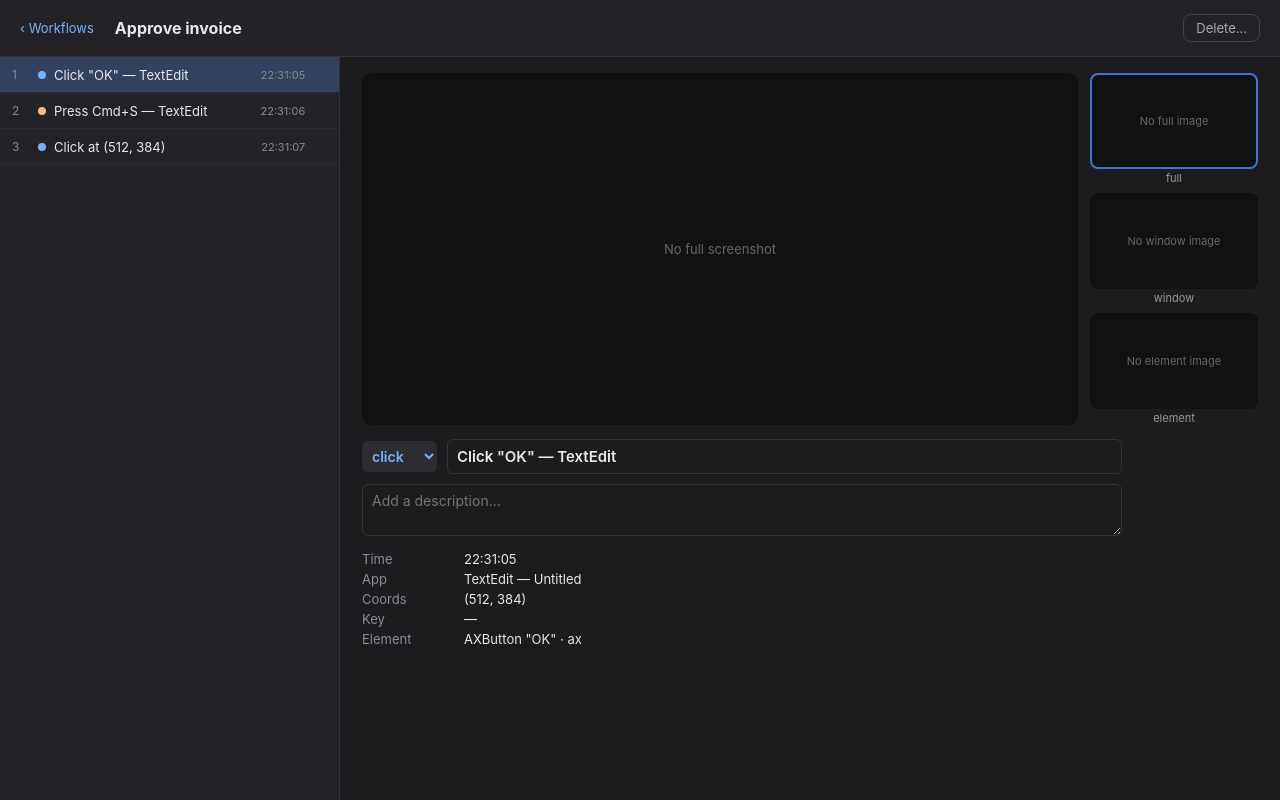
Test: workflow deletion › keeps the workflow and surfaces the error when deletion fails
Expected: the text "Click \"OK\" — TextEdit" is shown, [54, 66, 189, 82]
What coordinates should you click on to do the following:
click the button "Delete…"
I would click on:
 (1222, 28)
Its box is [1183, 14, 1260, 42].
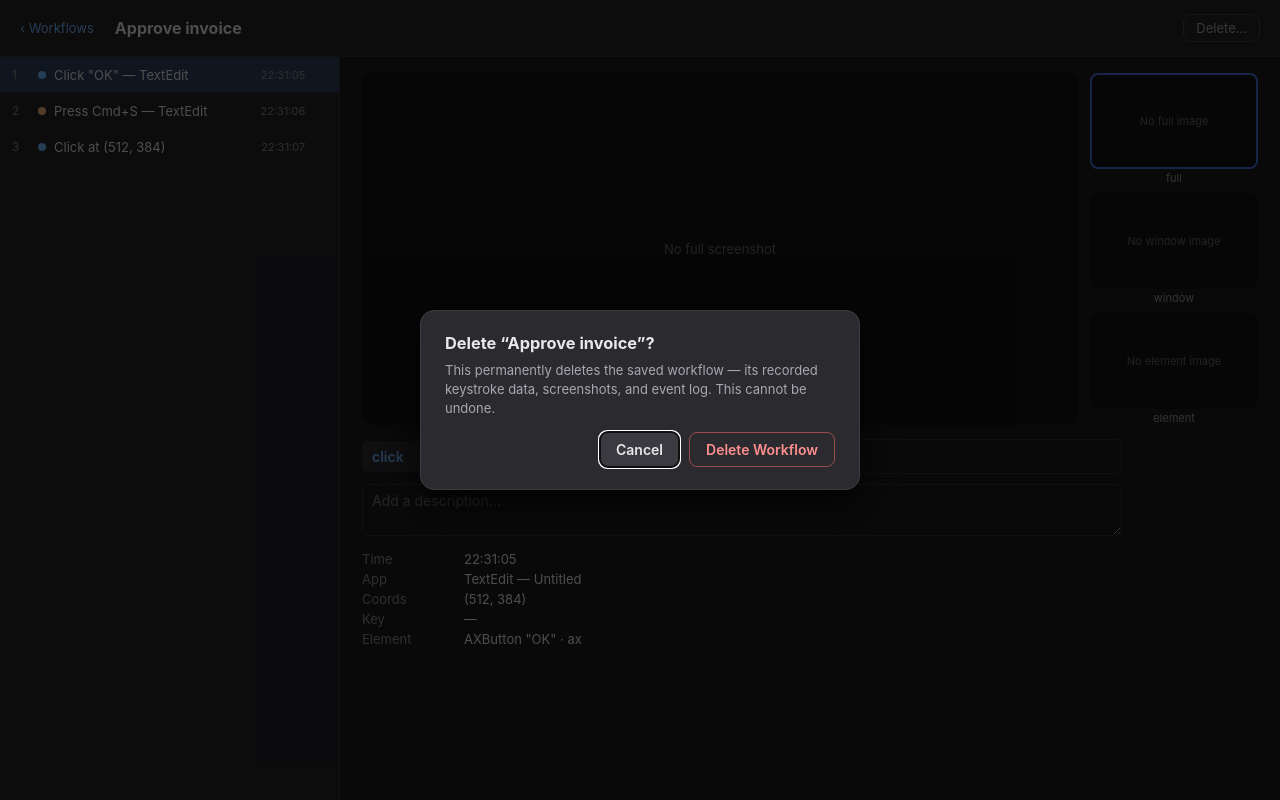
What coordinates should you click on to do the following:
click the button "Delete Workflow"
I would click on:
 (762, 449)
Its box is [689, 432, 835, 467].
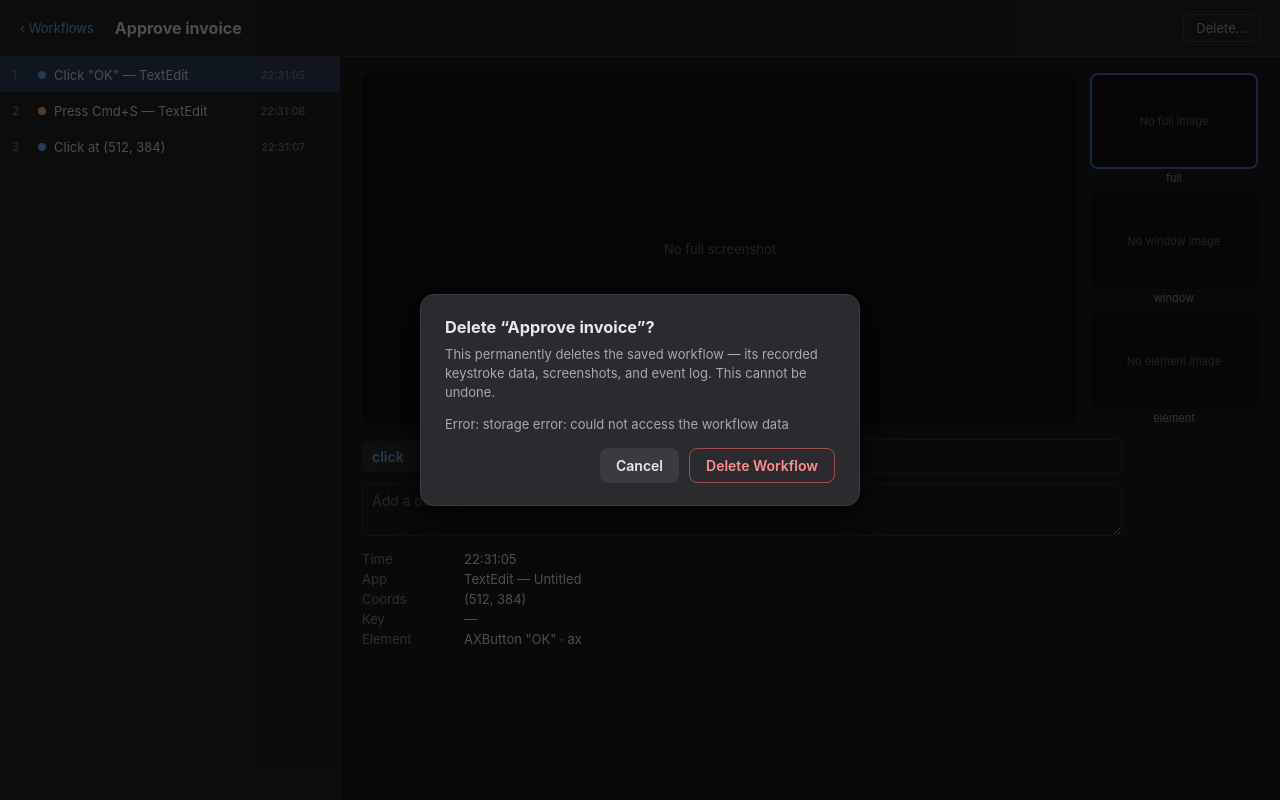
Expected: the text "Click \"OK\" — TextEdit" is shown, [54, 66, 189, 82]
Expected: the message shows "could not access the workflow data", [445, 416, 789, 432]
